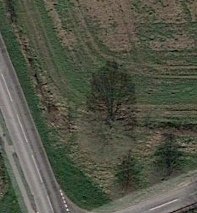tree: (76, 101, 142, 160)
